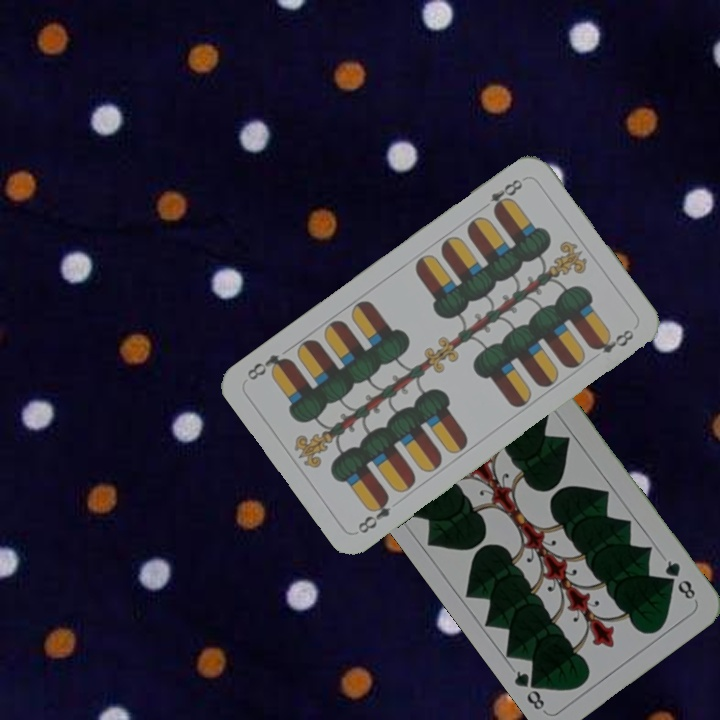E8: (353, 491, 393, 537), (486, 175, 525, 216)
G8: (660, 556, 698, 602)
